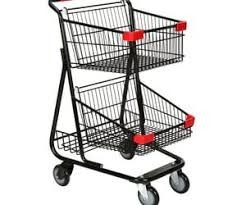with_basket: (45, 1, 194, 205)
